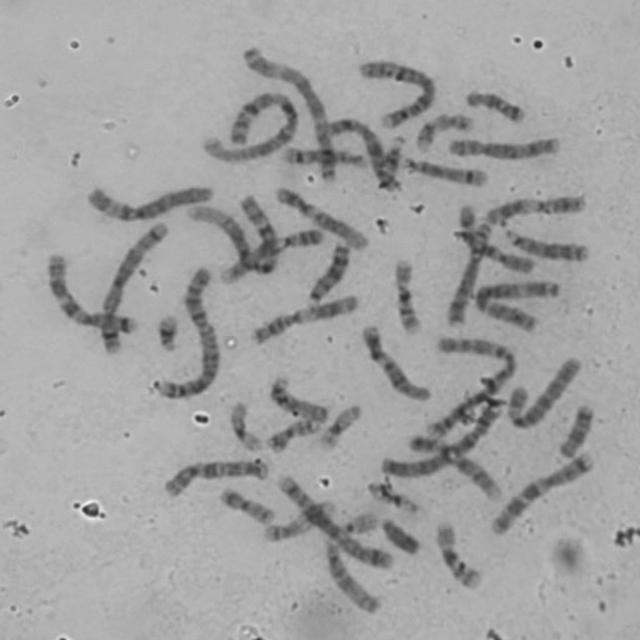A1: (183, 192, 284, 276), (197, 89, 302, 166)
A2: (421, 332, 518, 445), (152, 264, 222, 402)
A3: (239, 44, 340, 188), (470, 277, 564, 335)
B4: (375, 395, 507, 481), (355, 58, 438, 129)
B5: (274, 470, 395, 572), (96, 216, 172, 355)
C10: (451, 202, 539, 276), (157, 455, 270, 500)
C11: (245, 290, 361, 346), (482, 190, 590, 227)
C12: (271, 182, 370, 253), (357, 321, 433, 404)
C6: (503, 352, 585, 429), (78, 179, 215, 224)
C7: (485, 449, 596, 539), (42, 249, 140, 336)
C8: (442, 215, 497, 328), (444, 131, 564, 162)
C9: (405, 429, 504, 503), (216, 225, 325, 286)
D13: (500, 225, 592, 264), (303, 237, 351, 307)
D14: (398, 154, 491, 190), (278, 143, 369, 171)
D15: (322, 535, 385, 618), (266, 374, 329, 424)
E16: (430, 518, 486, 592), (390, 256, 424, 337)
E17: (259, 496, 338, 545), (412, 109, 476, 153)
E18: (460, 86, 528, 124), (555, 402, 596, 461)
F19: (316, 401, 363, 452), (226, 398, 263, 452)
F20: (216, 484, 277, 526), (264, 415, 324, 454)
G21: (376, 133, 408, 182), (154, 310, 182, 353)
G22: (336, 506, 386, 540)
X: (322, 113, 401, 194)
Y: (376, 513, 422, 556)
